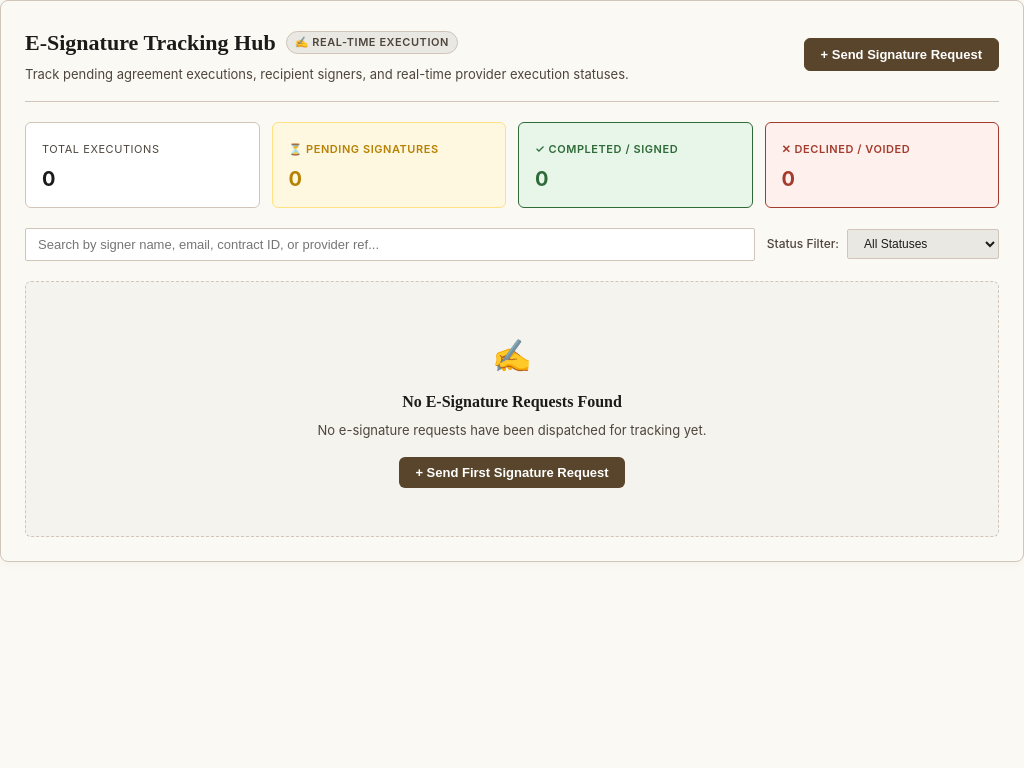
ESignatureHub Component › renders empty state when no e-signature requests are provided and allows toggling request creation form
The width and height of the screenshot is (1024, 768).
Check: the element with test id "esign-empty-state" is shown, box 25,281 -> 999,537
Check: the heading "No E-Signature Requests Found" is shown, box 402,393 -> 622,410
Click the button with test id "esignature-form-toggle".
click(901, 55)  # box 804,38 -> 999,72
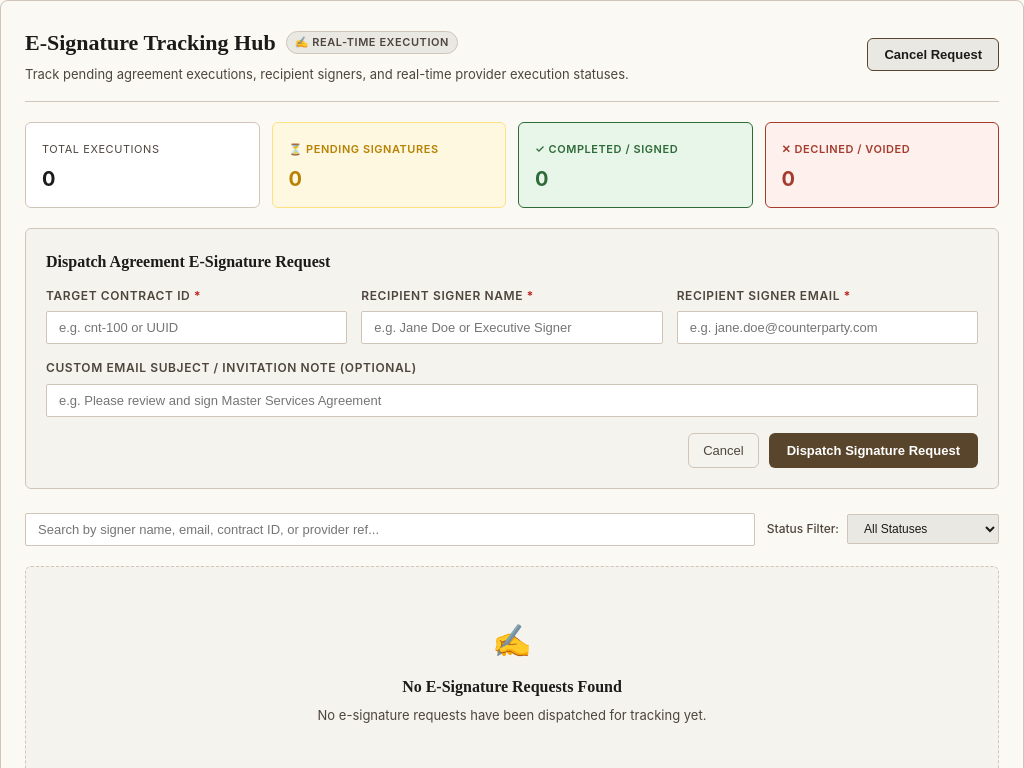
Check: the element with test id "esignature-form" is shown, box 25,228 -> 999,489
